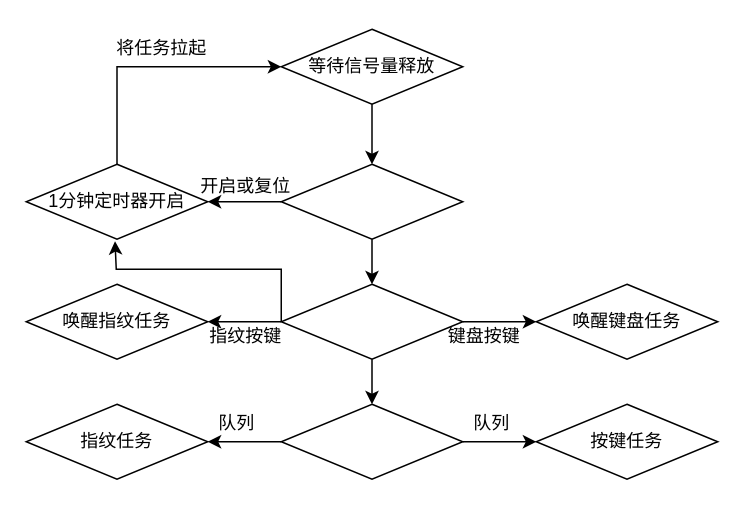
Image size: 744x506. Some labels were removed from this diagram. The shapes that lost their labels are listed below. From the top down, each one's centre as x and y in pixels, then its label:
pixel 371 201: 按键外部中断
pixel 371 321: 扫描任务
pixel 371 441: 读值
